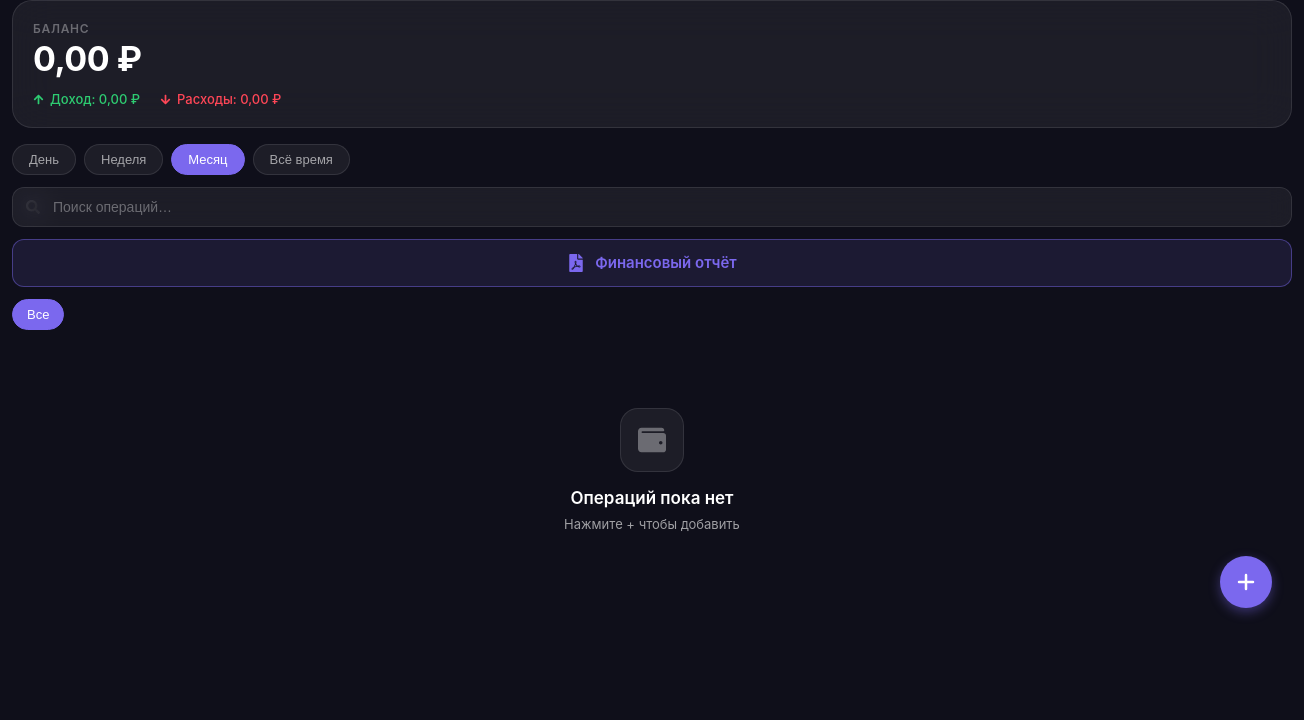
Test: Finance: a tap downloads the report through the authenticated export; a second tap meanwhile starts nothing
Click the button "Финансовый отчёт" at (652, 263), box [12,239,1292,287]
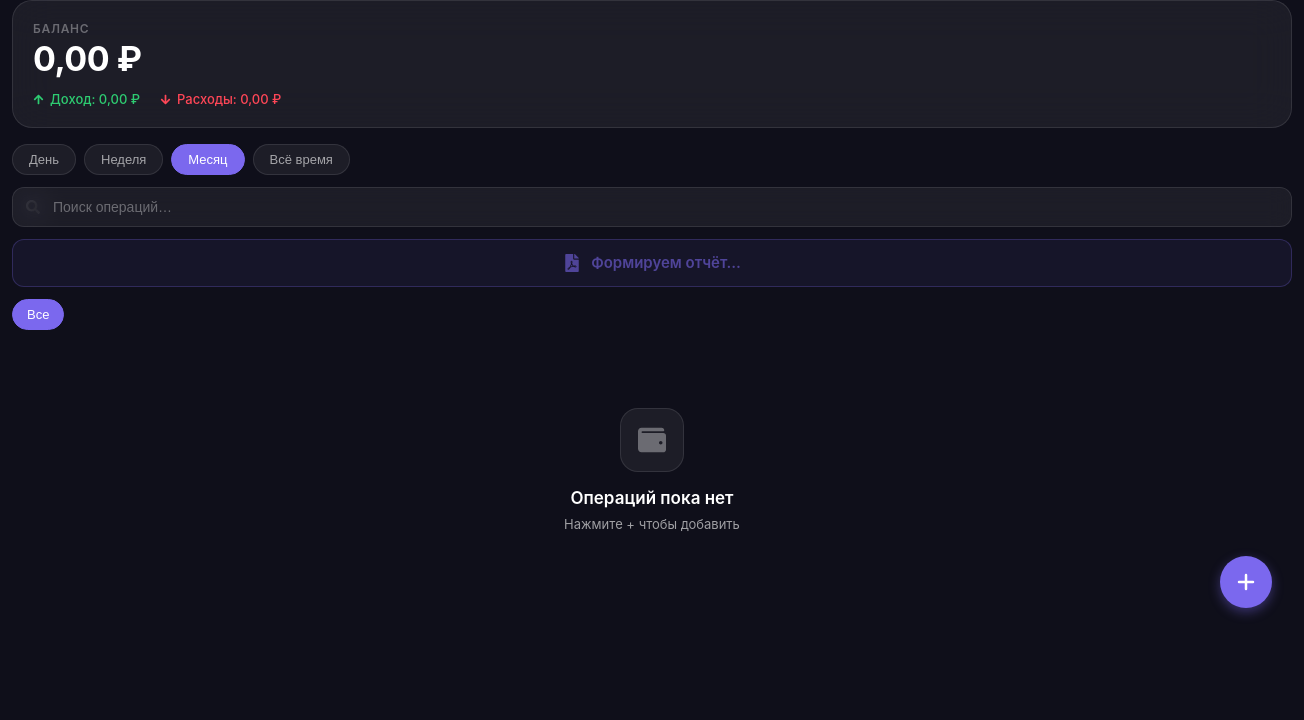
expect the button "Формируем отчёт…" is disabled: met
Click the button "Формируем отчёт…" at (652, 263), box [12,239,1292,287]
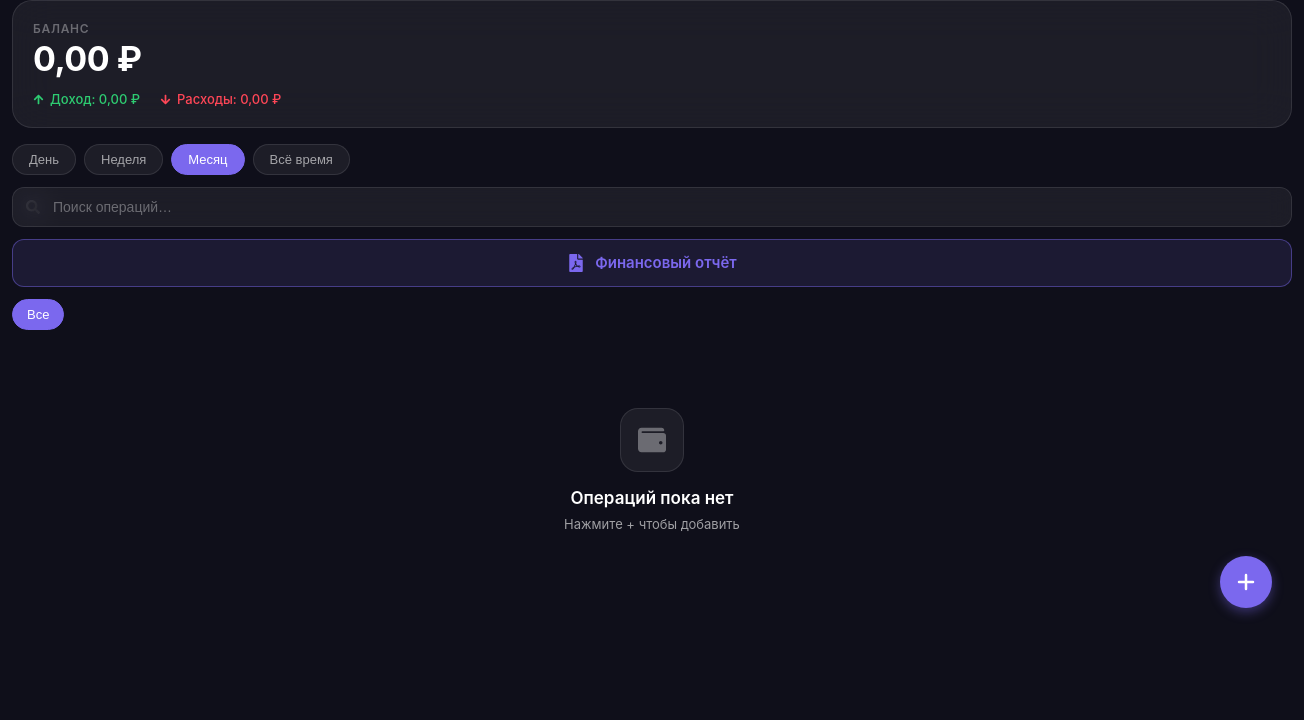
expect the button "Финансовый отчёт" is enabled: met, box [12,239,1292,287]
